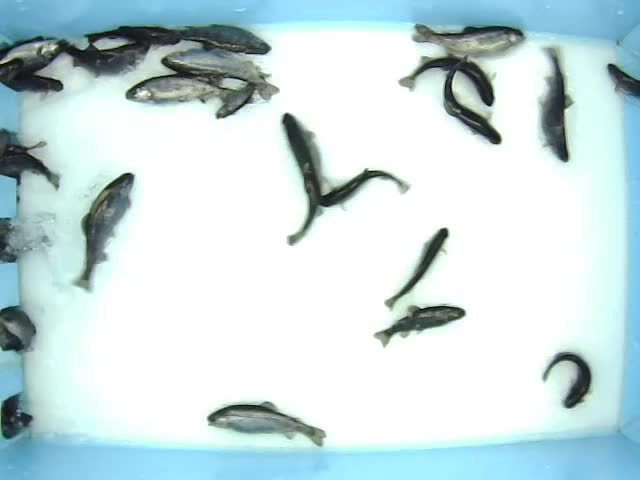fish: (70, 172, 135, 292), (160, 49, 283, 103), (206, 401, 328, 449), (280, 108, 322, 247), (383, 225, 450, 312), (393, 55, 501, 107), (443, 57, 504, 145), (535, 42, 576, 164), (124, 74, 260, 107), (317, 167, 412, 211), (372, 304, 466, 348), (410, 22, 529, 56), (61, 36, 155, 73), (174, 22, 273, 56), (539, 351, 594, 409), (213, 71, 273, 122), (83, 24, 181, 47)
